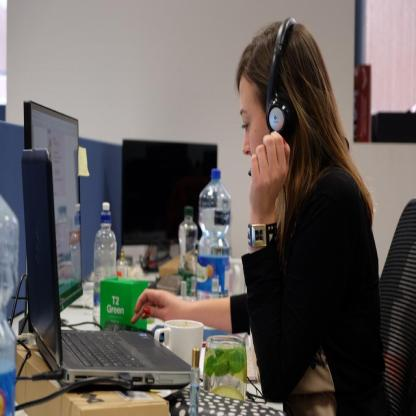board: (20, 147, 190, 387), (197, 168, 230, 302), (0, 193, 19, 416), (93, 202, 118, 323), (179, 206, 196, 294), (189, 348, 201, 416)
